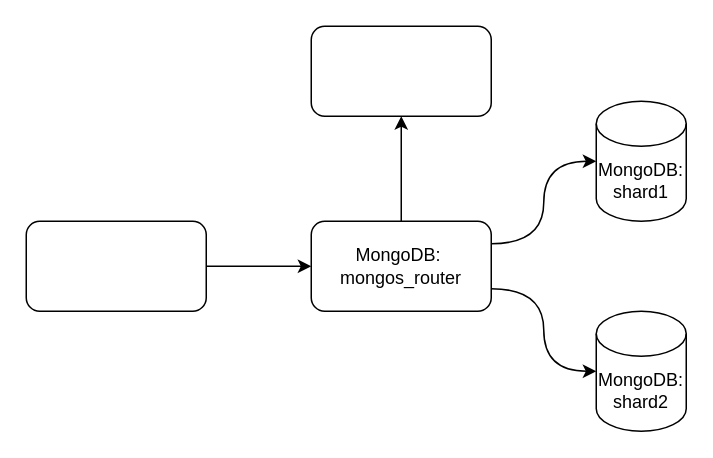
Some shapes in this 713 by 458 pixel diagram are drawn without their labels. The shapes that lost their labels are listed below. From the top down, each one's centre as x and y in pixels, then its label:
pixel 400 70: MongoDB: configSrv
pixel 115 265: pymongo-api
